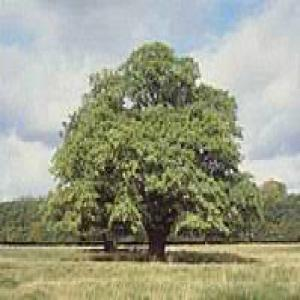Tree: (45, 38, 258, 253)
